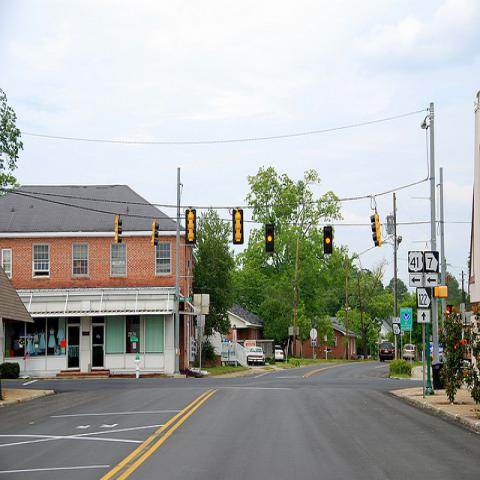car: (452, 340, 473, 376), (377, 340, 396, 361), (248, 346, 265, 366), (403, 344, 415, 361), (275, 346, 285, 360)
